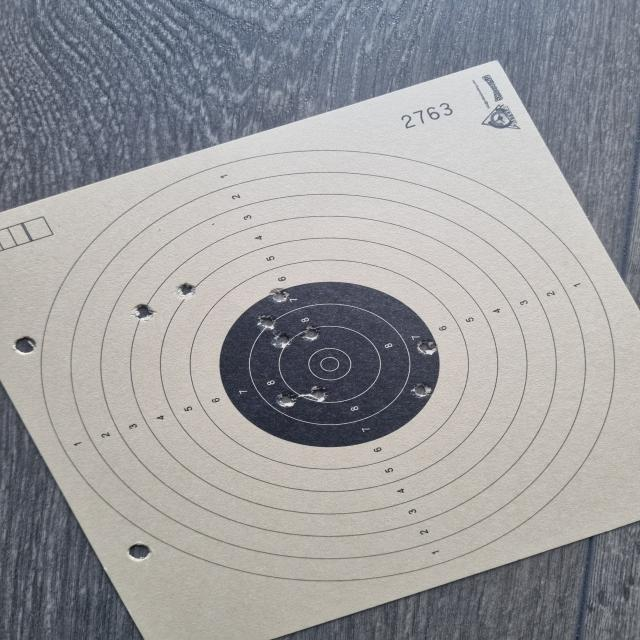4: (132, 303, 157, 321)
5: (175, 283, 196, 298)
7: (410, 382, 432, 398), (417, 339, 438, 355), (269, 289, 289, 303)
8: (276, 392, 297, 407), (257, 314, 276, 330)
9: (297, 387, 328, 402), (299, 325, 321, 341), (272, 331, 291, 348)
Target: (41, 148, 615, 582)
black_contour: (221, 283, 438, 447)
